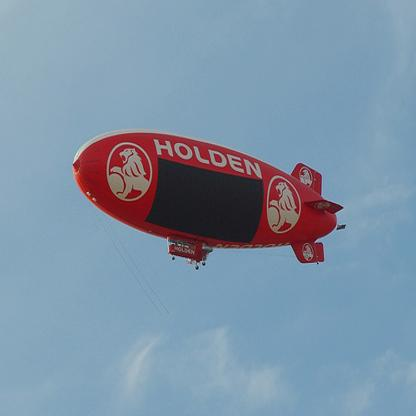Airship: (70, 126, 355, 278)
